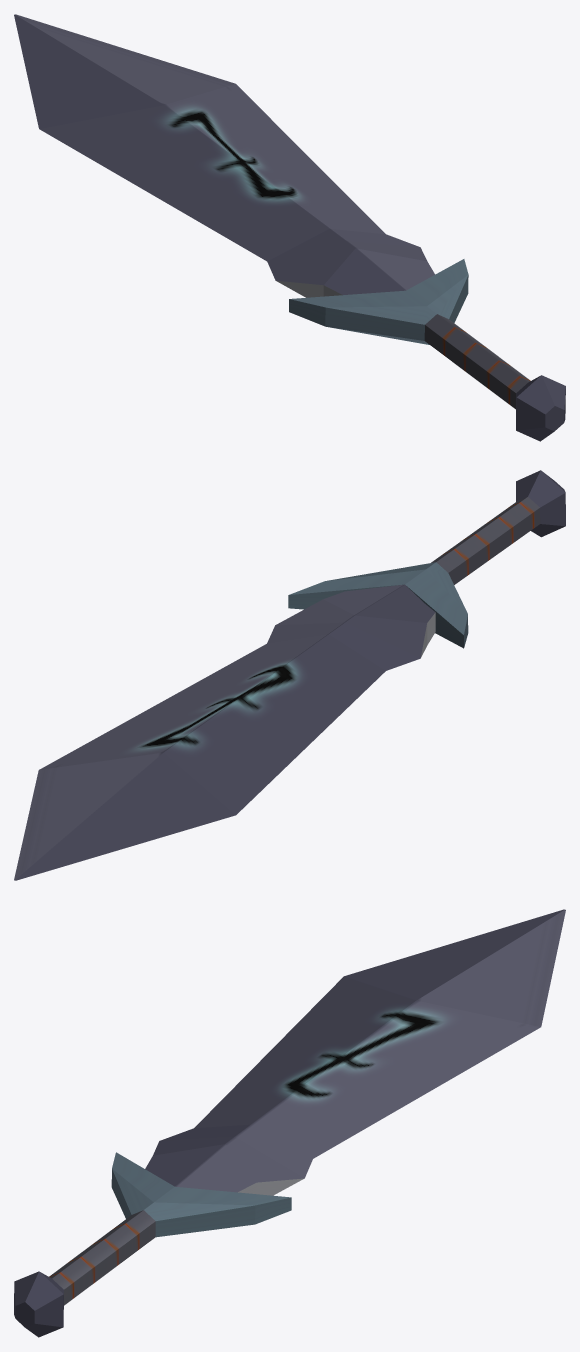
The model's file is sword.obj.
3 renders of one model, top to bottom at view 1: azimuth 30°, elevation 25°; view 2: azimuth 150°, elevation 25°; view 3: azimuth 330°, elevation 25°, orthographic.
Parts seen in each view (by area): view 1: Cube_Cube.002, Cylinder.002; view 2: Cube_Cube.002, Cylinder.002; view 3: Cube_Cube.002, Cylinder.002.
Boxes of the visible parts, x1,y1,x2,y2 form: Cube_Cube.002: [14, 14, 434, 297]; Cylinder.002: [289, 259, 565, 441]; Cube_Cube.002: [14, 584, 435, 880]; Cylinder.002: [288, 470, 565, 648]; Cube_Cube.002: [145, 909, 565, 1195]; Cylinder.002: [14, 1152, 291, 1337].
Bounding box in the file's own units: 7.3 × 2.36 × 34.66.
Materials: 1 (1 with a texture image).
